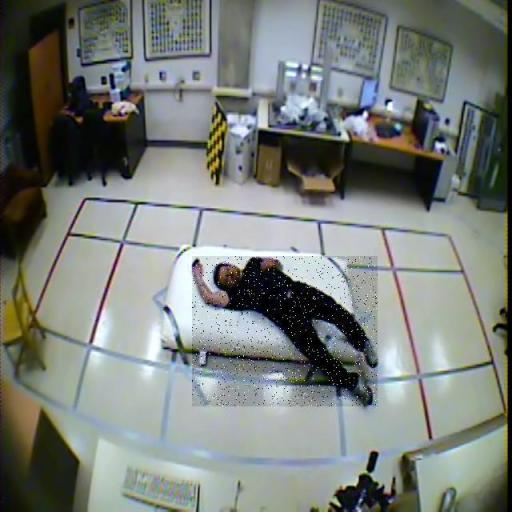Fall: (192, 256, 378, 406)
